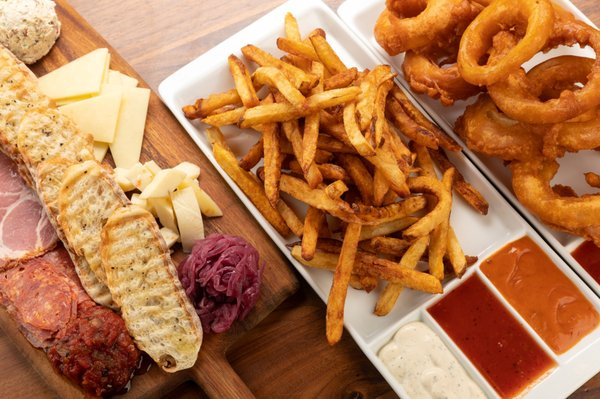soup: (373, 0, 600, 251)
